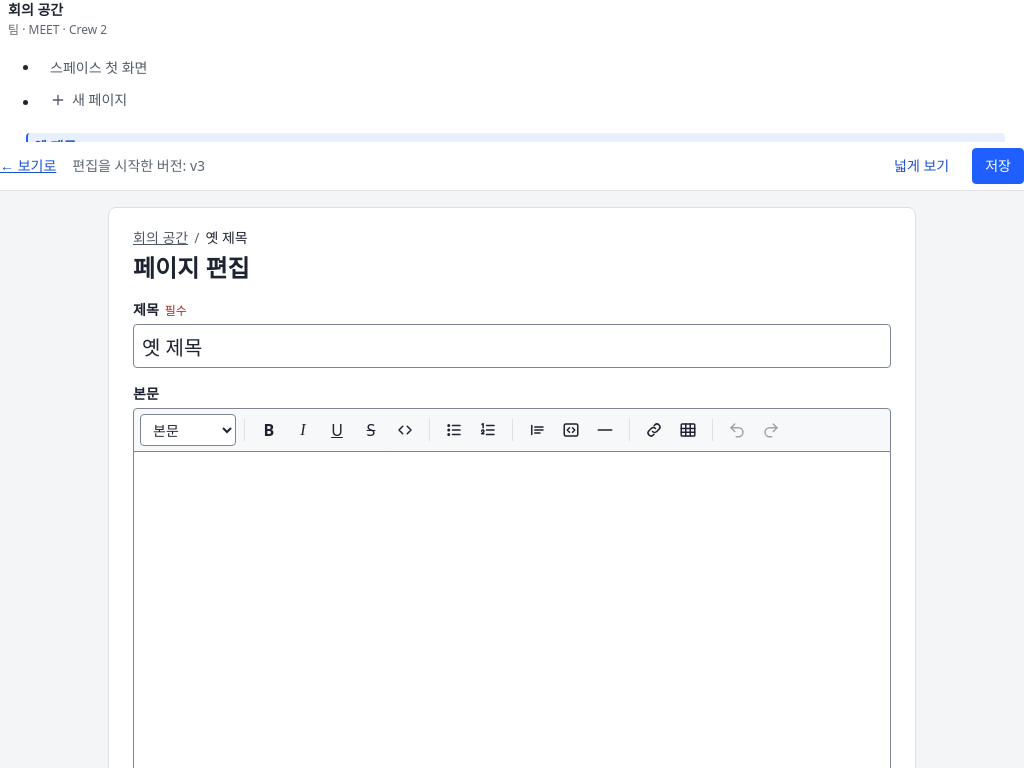
Test: PageEditorPage — 편집 화면의 모양 (P17 J.6 · FR-1860) › REST 저장이 409면 편집 줄 아래 알림띠가 말하고 **덮어쓰기 단추 없이** 최신 내용 불러오기만 둔다 — 저장은 막힌다 (FR-343)
Click the button "저장" at (998,166), box [972,148,1023,184]
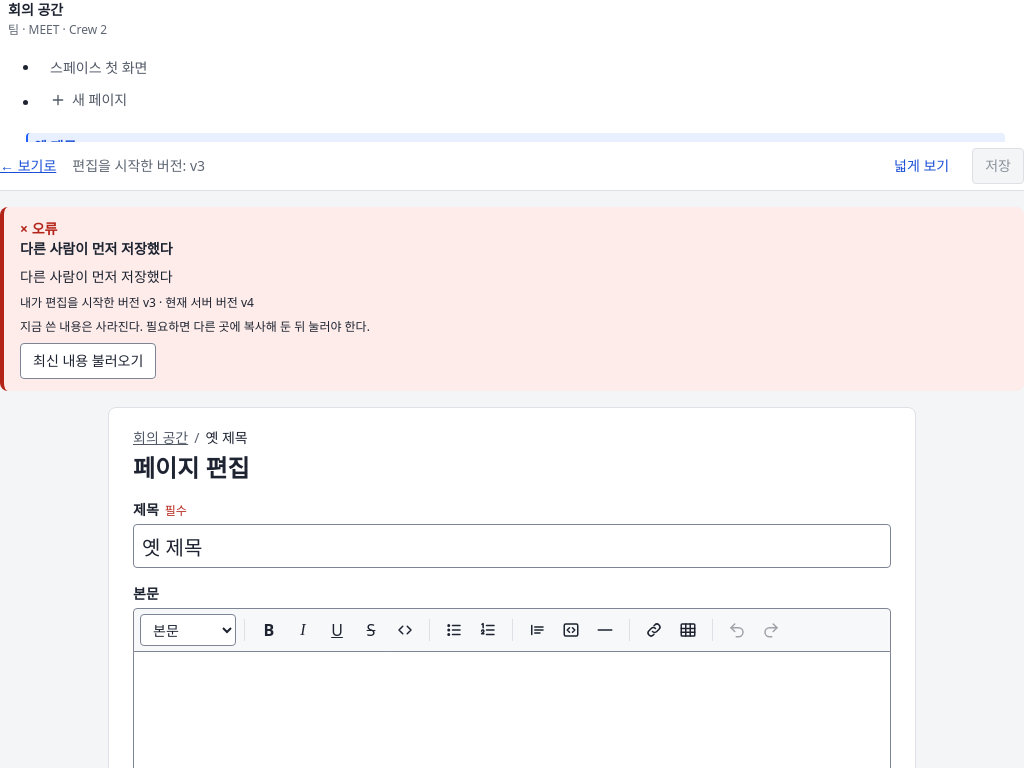
Expected: the message shows "다른 사람이 먼저 저장했다", [20,239,173,258]
Expected: the message shows "내가 편집을 시작한 버전 v3 · 현재 서버 버전 v4", [0,207,1023,391]
Expected: the buttons read "최신 내용 불러오기", in this order, [20,343,156,379]
